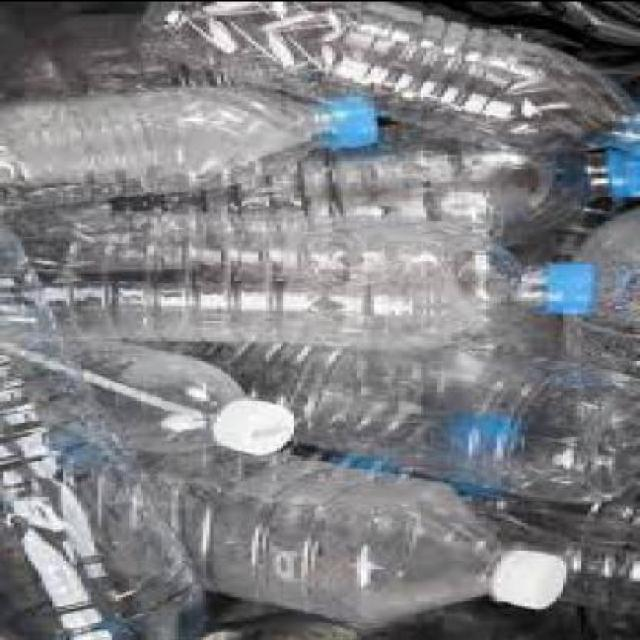PLASTIC: (4, 220, 210, 638), (11, 121, 637, 256), (122, 450, 570, 622), (4, 217, 601, 340), (140, 2, 638, 149), (196, 344, 639, 498), (3, 81, 382, 208), (4, 336, 301, 450), (434, 491, 638, 612), (4, 12, 171, 88), (490, 546, 570, 608), (217, 394, 305, 449), (538, 258, 604, 310), (328, 91, 381, 146), (608, 142, 638, 198)
